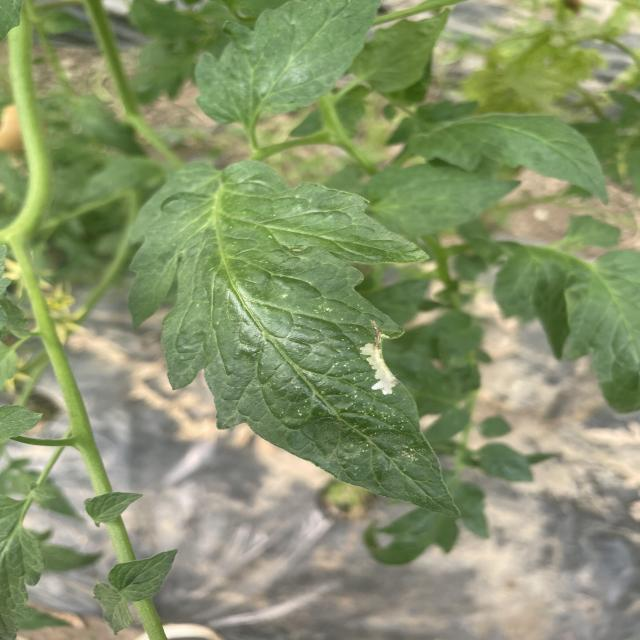Tuta absoluta: (355, 324, 402, 398)
